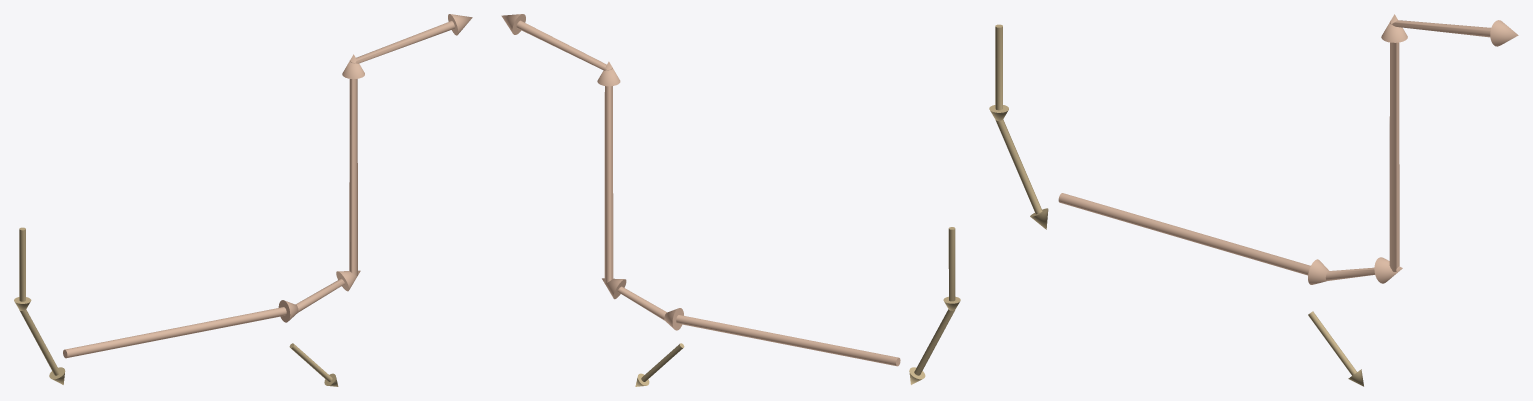
Rendered from incinerator_flow.glb.
3 views of the same model, side by side, from view 1: azimuth 30°, elevation 25°; view 2: azimuth 150°, elevation 25°; view 3: azimuth 330°, elevation 25° (orthographic). The views are drawn at different scales.
Visible parts, largest first — view 1: flue_gas, waste_feed, ash; view 2: flue_gas, waste_feed, ash; view 3: flue_gas, waste_feed, ash.
Boxes of the visible parts, box(x1,y1,x2,y2) form: flue_gas: box(63, 14, 472, 358); waste_feed: box(14, 227, 65, 384); ash: box(289, 343, 338, 386); flue_gas: box(501, 14, 900, 366); waste_feed: box(909, 227, 960, 384); ash: box(635, 343, 684, 386); flue_gas: box(1058, 14, 1518, 284); waste_feed: box(989, 24, 1048, 229); ash: box(1308, 311, 1363, 386).
Bounding box in the file's own units: 4.76 × 3.42 × 0.2969.
